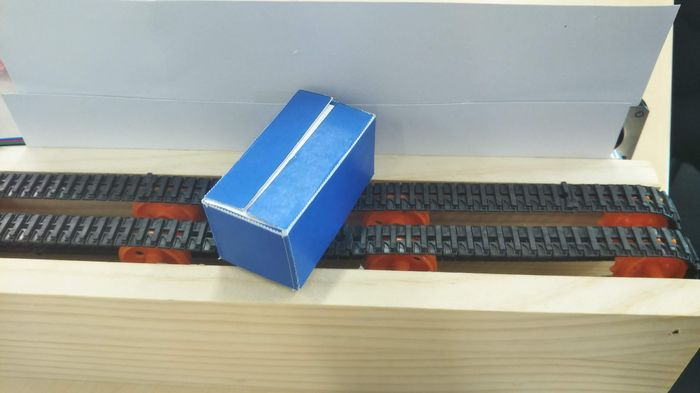box3: (198, 86, 378, 293)
